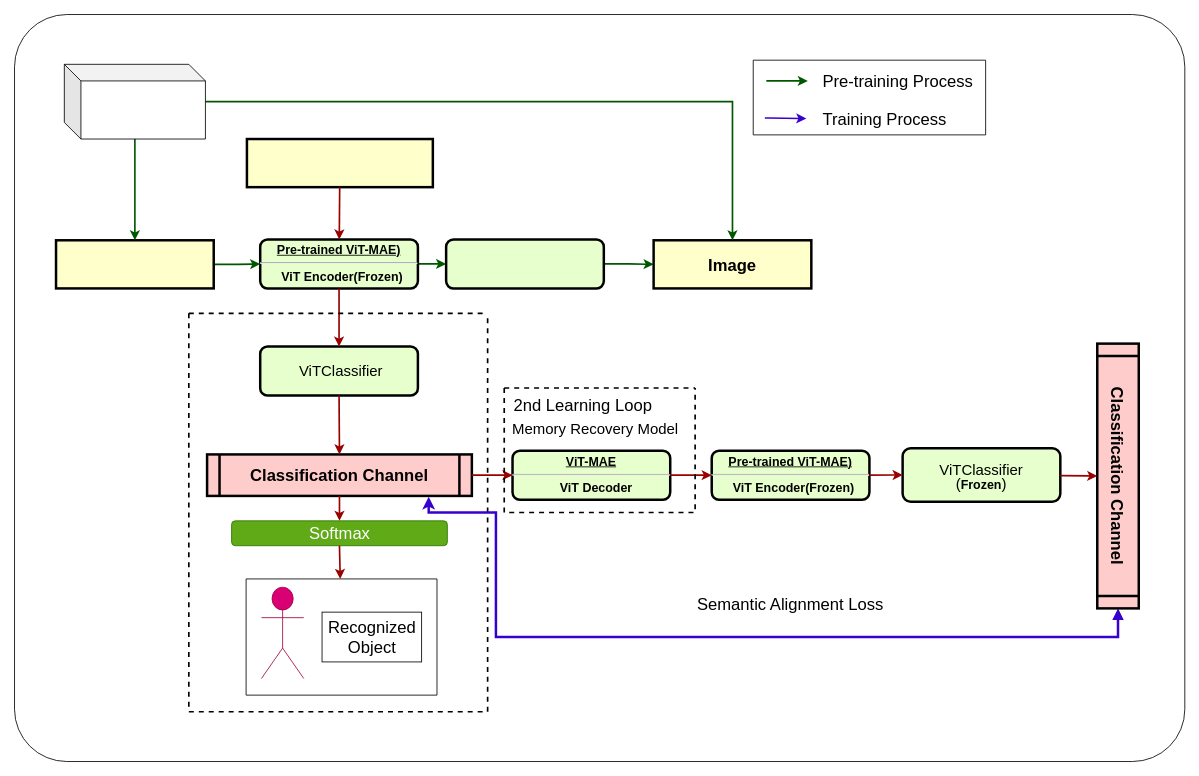
The diagram is 1199 pixels wide and 776 high, and some of its shapes have lost their labels. Here are the shapes that lost their labels. From the top down, the centre of each, then its label:
At [134,101]: "Train Data".
At [339,162]: "Categorized Input Data (CIFAR-10)".
At [134,264]: "Masked Image".
At [524,263]: "Pre-trained ViT-MAE ViT Decoder".
At [338,512]: "1st Learning Loop".
